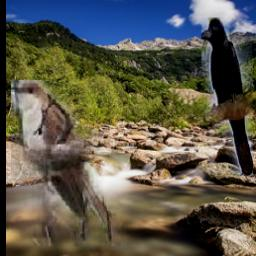Crow: (201, 18, 253, 175)
Cuckoo: (10, 80, 128, 246)
